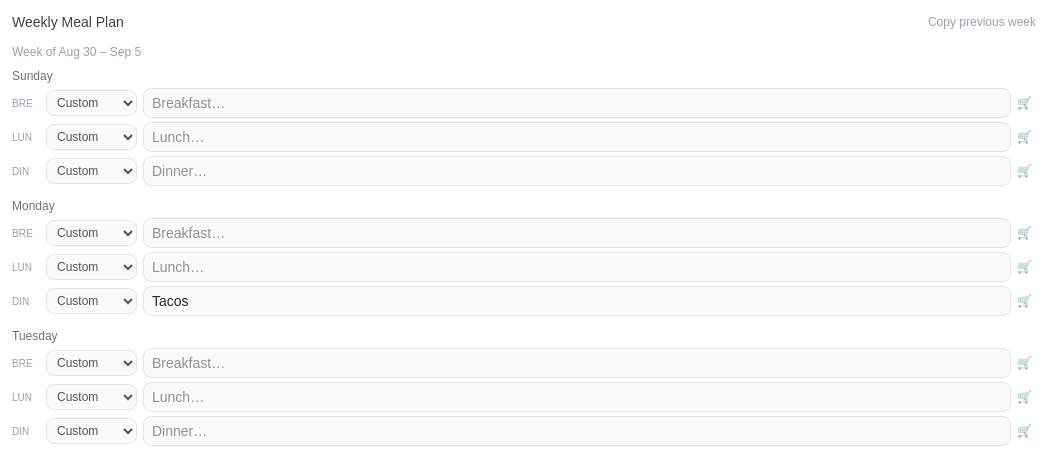
Scenario: MealPlanSection › parses ingredients for a filled-in meal and lists them for review
Click the 6th button "🛒" at (1024,301), box [1017,293,1032,309]
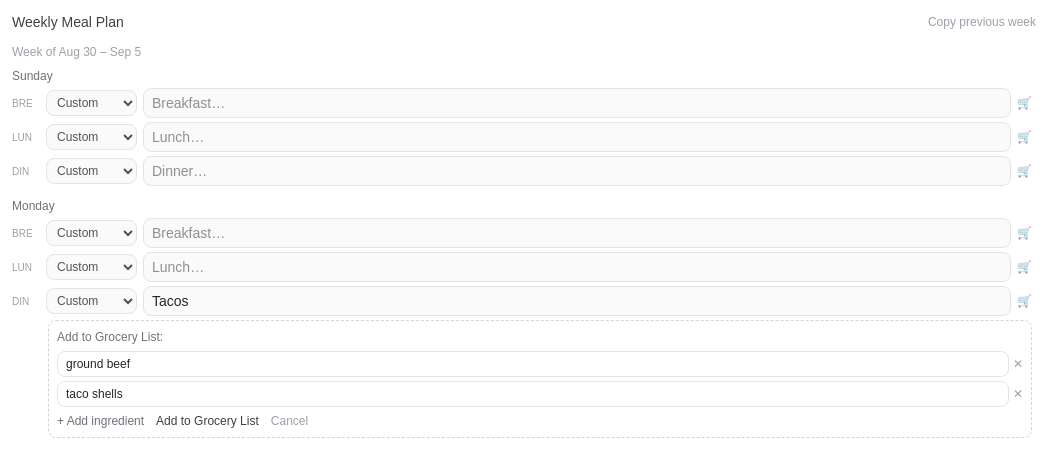
Expected: the 2nd field showing "ground beef" is shown, [57,351,1009,377]
Expected: the 3rd field showing "taco shells" is shown, [57,381,1009,407]
